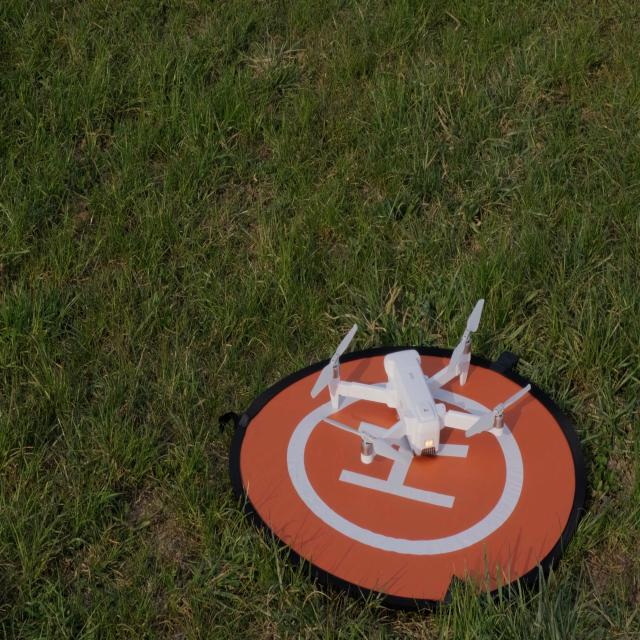drone: (310, 297, 531, 466)
